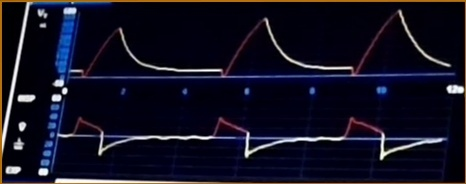Flow: (65, 108, 444, 179)
Leakage Volume: (76, 10, 454, 84)
